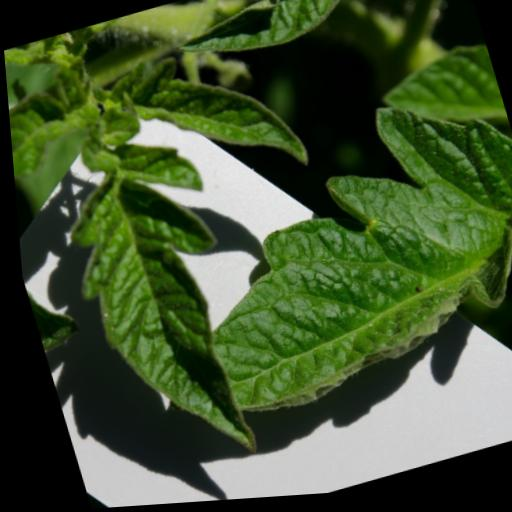Healthy: (152, 77, 512, 428), (35, 113, 274, 490), (118, 45, 309, 209), (368, 42, 507, 158)
